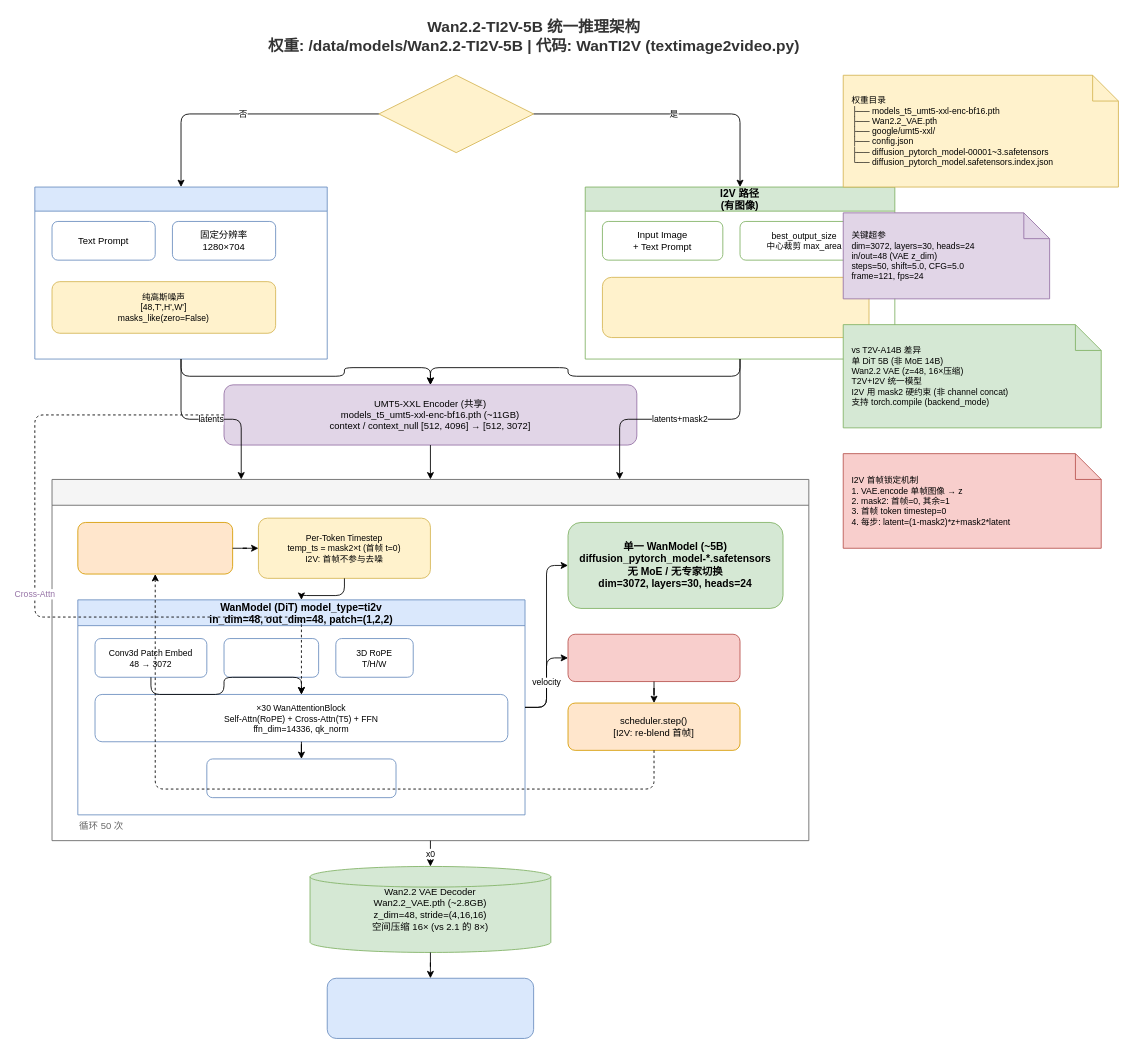
Image size: 1133x1054. Some labels were removed from this diagram. Each missing label, with the box of its shape:
CFG uncond + 5.0×(cond−uncond): (567, 633, 740, 682)
FlowUniPCMultistepScheduler 50 推理步: (77, 522, 233, 574)
Head + Unpatchify velocity [48,T',H',W']: (206, 758, 396, 798)
T2V 路径 (无图像): (34, 186, 327, 359)
Time Embed + AdaLN×6: (223, 638, 319, 677)
VAE.encode(首帧) → z latent = (1-mask2)*z + mask2*noise 每步去噪后 re-blend 锁定首帧: (602, 276, 869, 338)
WanTI2V.generate() img is not None?: (378, 74, 534, 153)
扩散去噪循环 (50 steps, Flow UniPC, shift=5.0, guide_scale=5.0): (51, 479, 809, 841)
输出视频 [3, N, H, W] 121帧 / 24fps ≈ 5秒 704×1280: (326, 977, 534, 1038)
